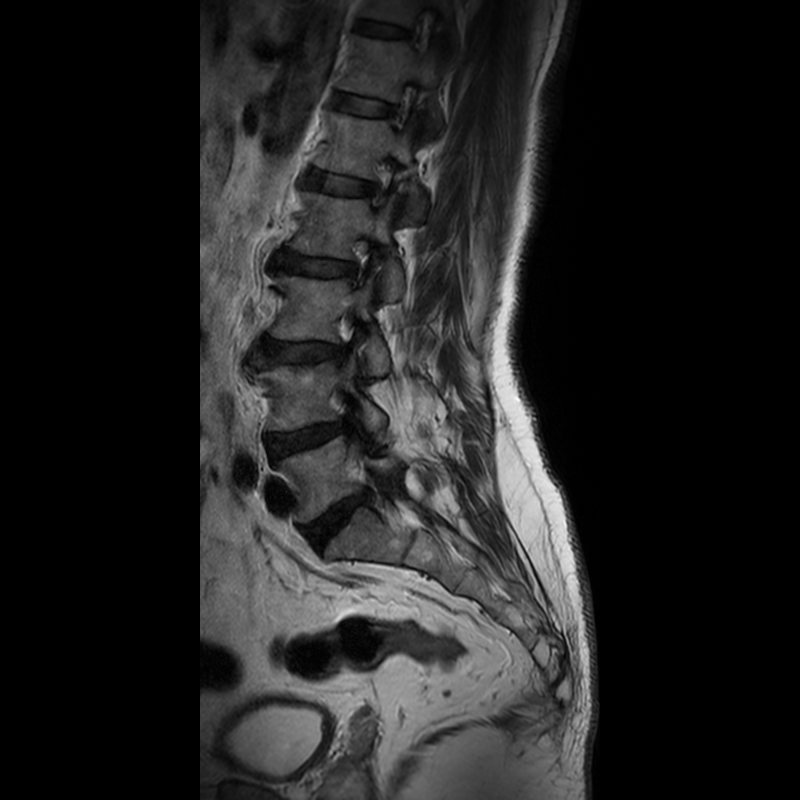LFS0: (356, 147, 416, 220)
